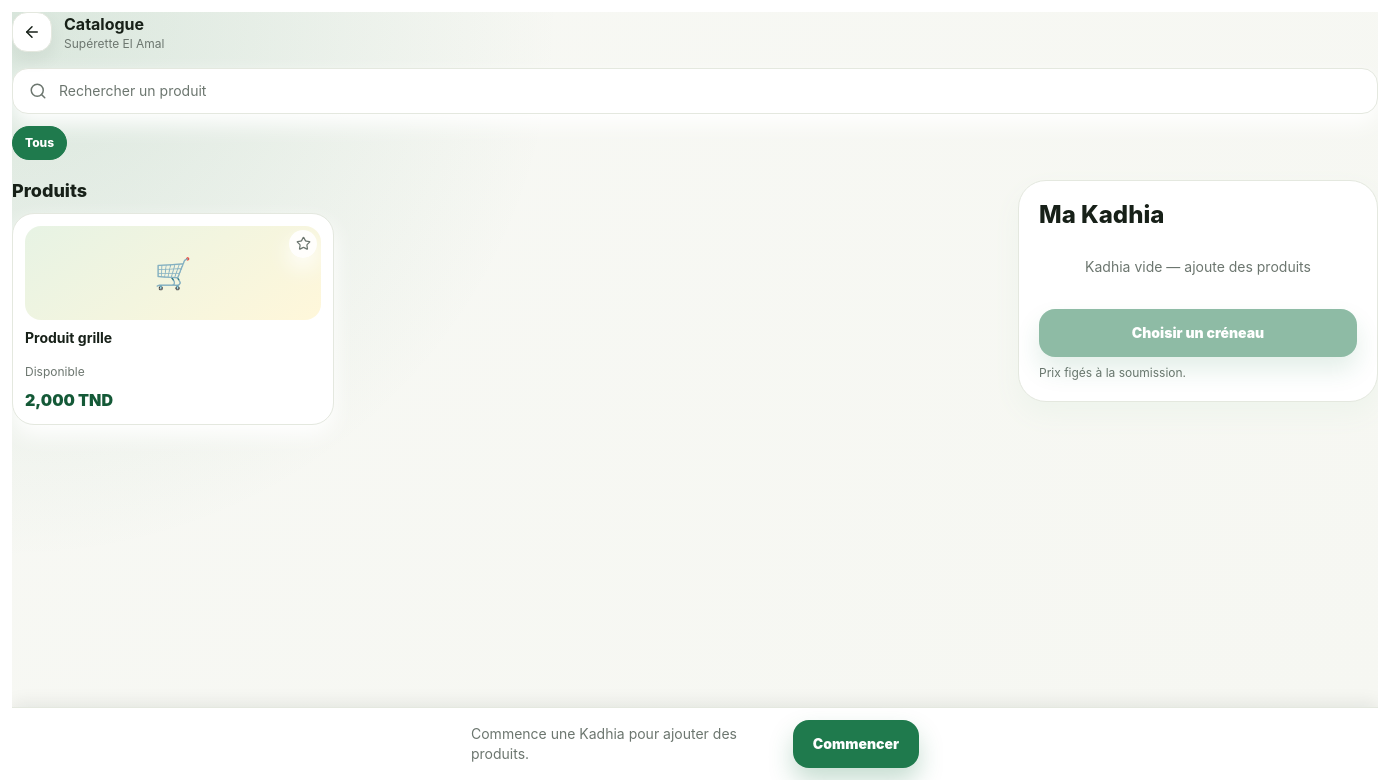
CatalogPage — suggestions et favoris › marque un produit de la grille comme favori
This screenshot has width=1378, height=780.
Click the button named "Ajouter aux favoris Produit grille" at coordinates (303, 244), box 289,230 -> 317,258
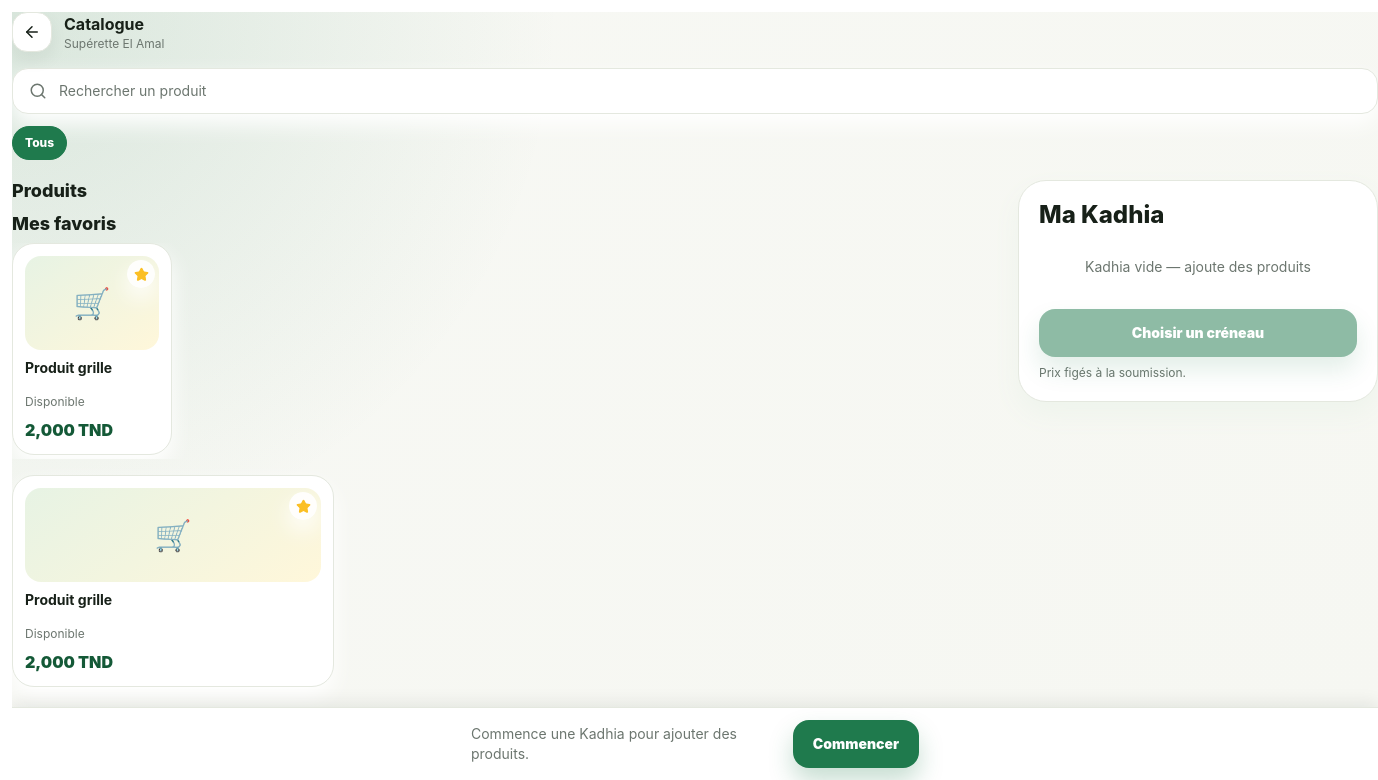
Now the heading "Mes favoris" is shown, box 12,212 -> 116,234
